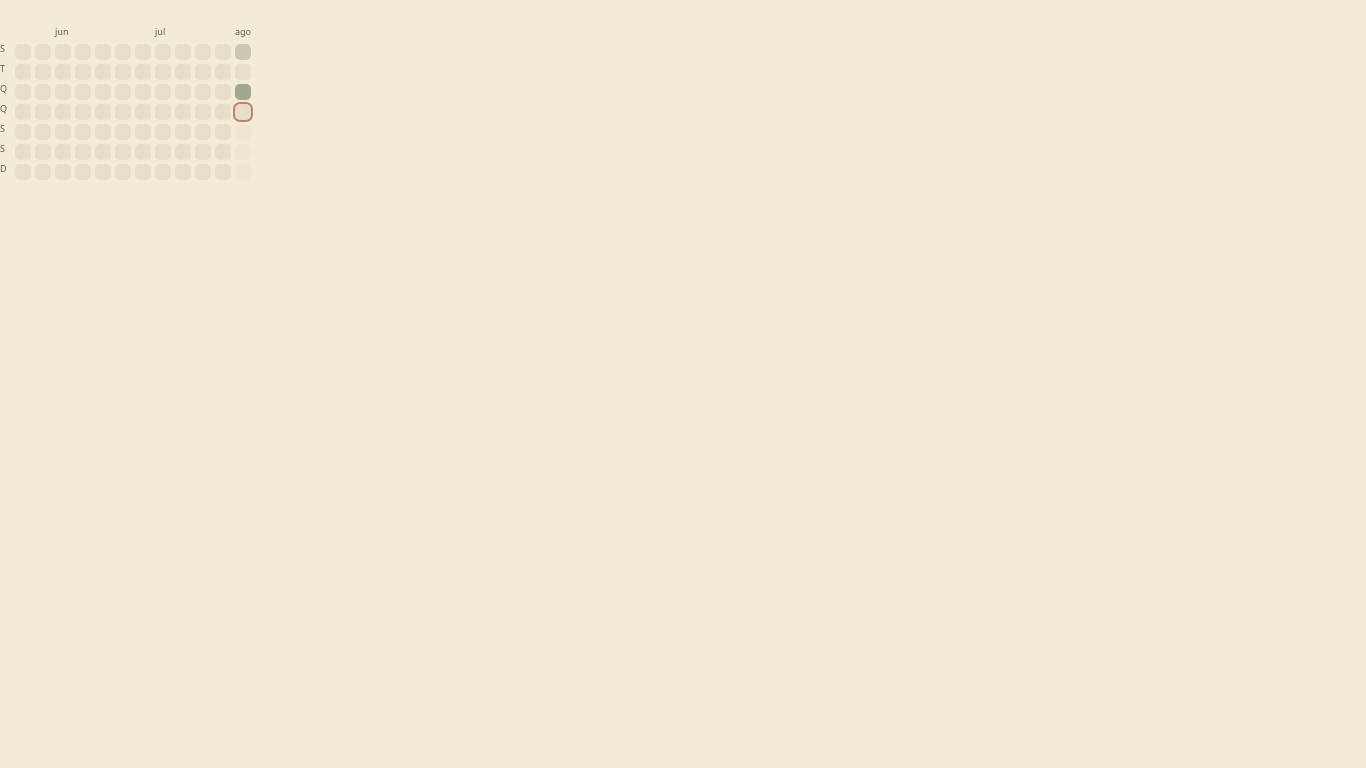
Test: MapaCalor › abre o popover de outro dia com apenas a prática daquele dia
The image size is (1366, 768).
Step 1. Click the button named "03 de ago. — 1 prática" → x=243, y=52, box [235, 44, 251, 60]
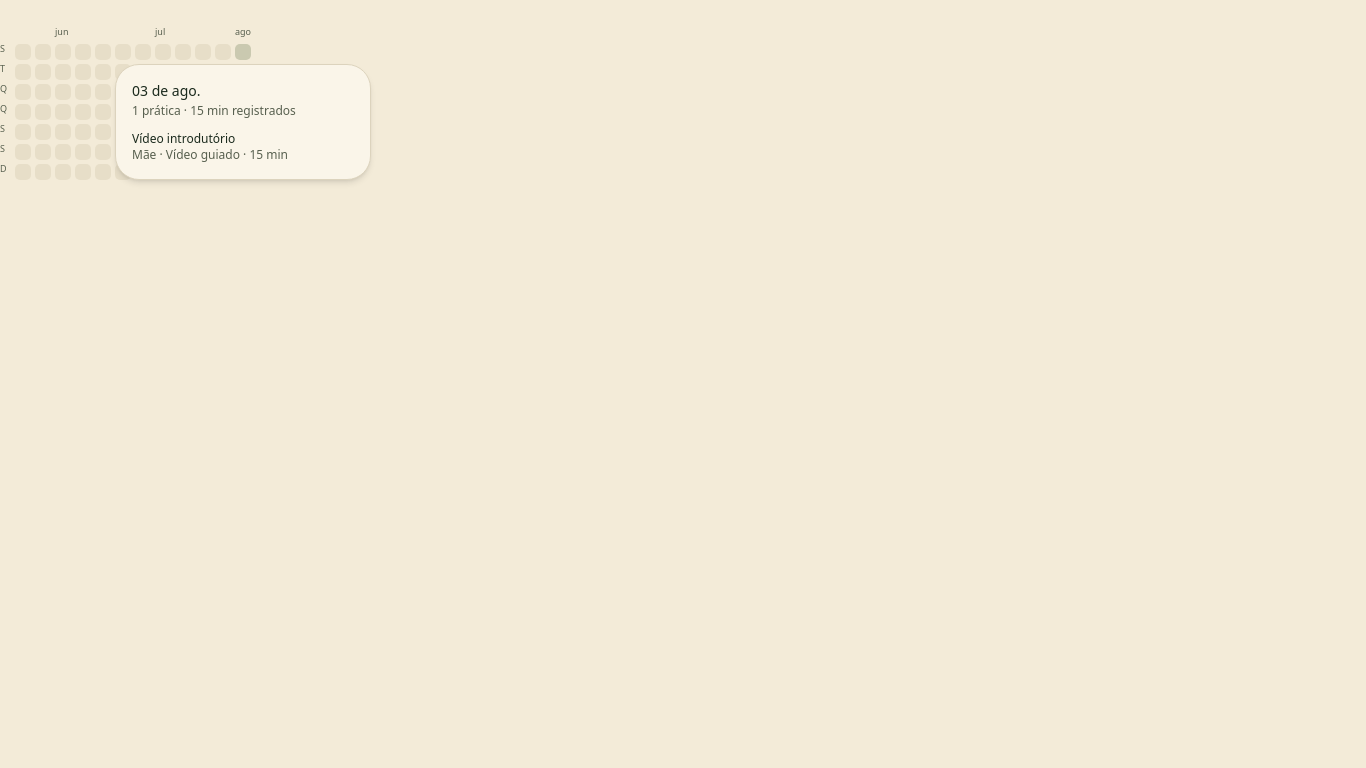
Expected: the text "1 prática · 15 min registrados" is shown, [132, 102, 296, 119]
Expected: the text "Vídeo introdutório" is shown, [132, 130, 235, 147]
Expected: the number of list items is 1, [132, 130, 288, 163]
